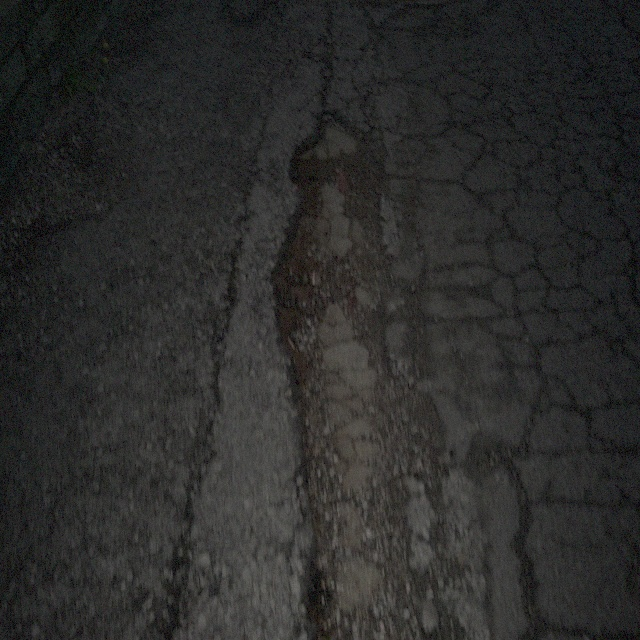pothole: (267, 96, 412, 598)
